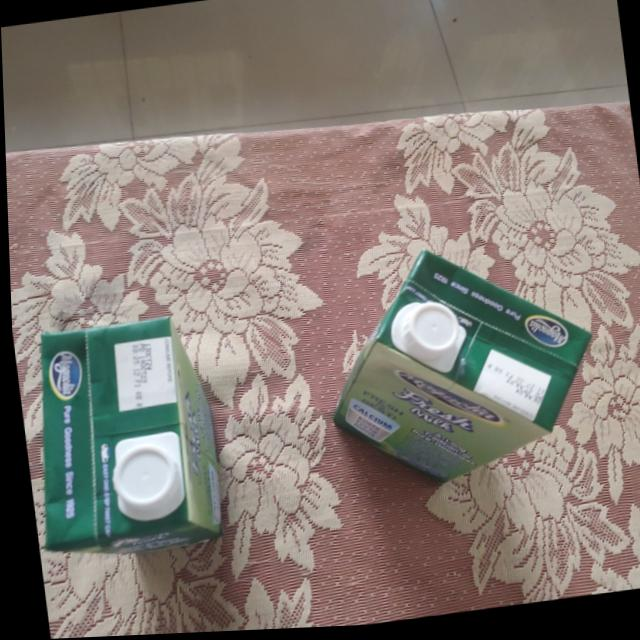milk: (303, 236, 604, 496), (9, 307, 226, 562)
